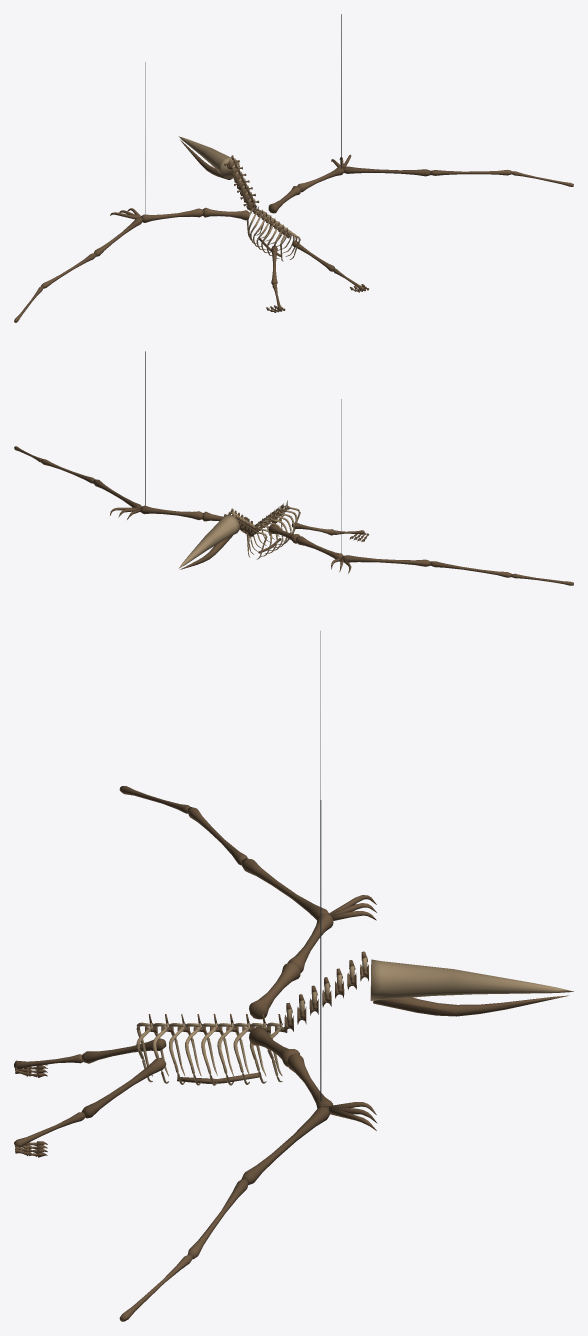
3 renders of one model, top to bottom at view 1: azimuth 30°, elevation 25°; view 2: azimuth 150°, elevation 25°; view 3: azimuth 270°, elevation 25°, orthographic. The views are drawn at different scales.
Visible parts, largest first — view 1: D08_SPEC_Fossil umber_export, D08_SPEC_Fossil ridge_export; view 2: D08_SPEC_Fossil umber_export, D08_SPEC_Fossil ridge_export, D08_SPEC_Mount steel_export; view 3: D08_SPEC_Fossil umber_export, D08_SPEC_Fossil ridge_export.
Part boxes in pixels (bbox=[...]): D08_SPEC_Fossil umber_export: bbox=[14, 140, 573, 322]; D08_SPEC_Fossil ridge_export: bbox=[178, 136, 300, 261]; D08_SPEC_Fossil umber_export: bbox=[14, 446, 573, 585]; D08_SPEC_Fossil ridge_export: bbox=[178, 505, 300, 568]; D08_SPEC_Mount steel_export: bbox=[145, 351, 341, 553]; D08_SPEC_Fossil umber_export: bbox=[14, 786, 568, 1321]; D08_SPEC_Fossil ridge_export: bbox=[136, 957, 573, 1085].
Size of the model in its own units: 6.02 by 2.14 by 2.68.
